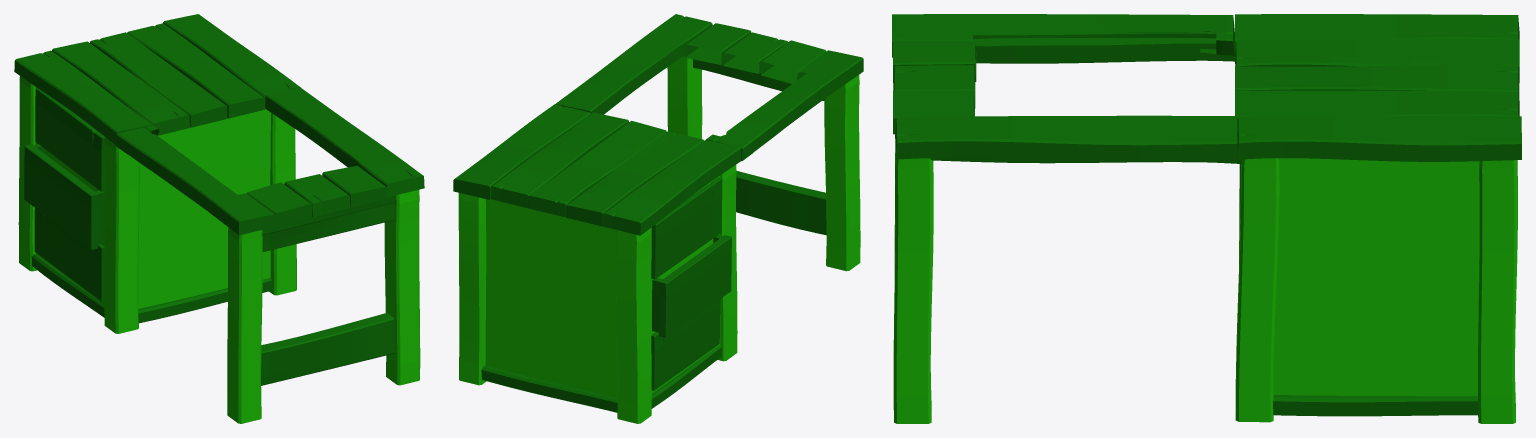
The model's file is SM_SinkTable.FBX.
The picture shows the model from 3 angles, left to right: view 1: azimuth 30°, elevation 25°; view 2: azimuth 150°, elevation 25°; view 3: azimuth 270°, elevation 25°; orthographic projection. The views are drawn at different scales.
Parts seen in each view (by area): view 1: Legs; view 2: Legs; view 3: Legs.
Part boxes in pixels (box(x1,y1,x2,y2)): Legs: box(14, 14, 424, 423); Legs: box(453, 14, 863, 423); Legs: box(892, 14, 1521, 423).
Bounding box in the file's own units: 102 × 102 × 202.
